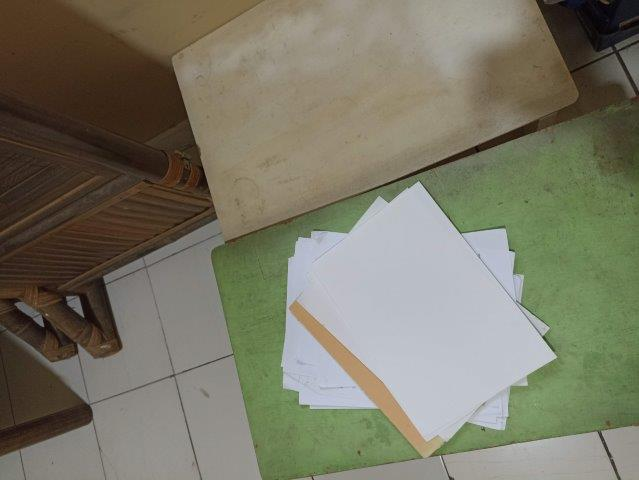kertas: (280, 181, 557, 455)
